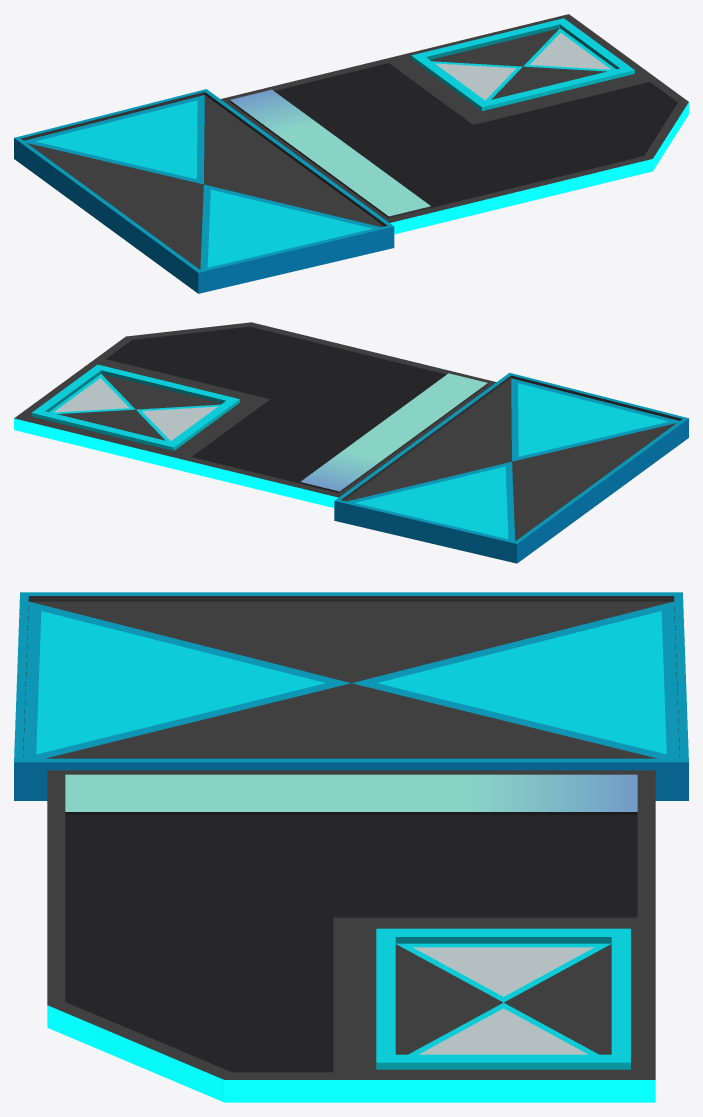
The model's file is Blue_Access_Card.glb.
The picture shows the model from 3 angles, top to bottom: view 1: azimuth 30°, elevation 25°; view 2: azimuth 150°, elevation 25°; view 3: azimuth 270°, elevation 25°; orthographic projection. The views are drawn at different scales.
Visible parts, largest first — view 1: SciFiKey_BlueAccessCard; view 2: SciFiKey_BlueAccessCard; view 3: SciFiKey_BlueAccessCard.
Boxes of the visible parts, bbox=[...] form: SciFiKey_BlueAccessCard: bbox=[14, 14, 688, 293]; SciFiKey_BlueAccessCard: bbox=[14, 322, 688, 563]; SciFiKey_BlueAccessCard: bbox=[14, 592, 688, 1102].
Size of what is drawn, in the model's own units: 0.4465 by 0.0167 by 0.2654.
Materials: 1 (1 with a texture image).
